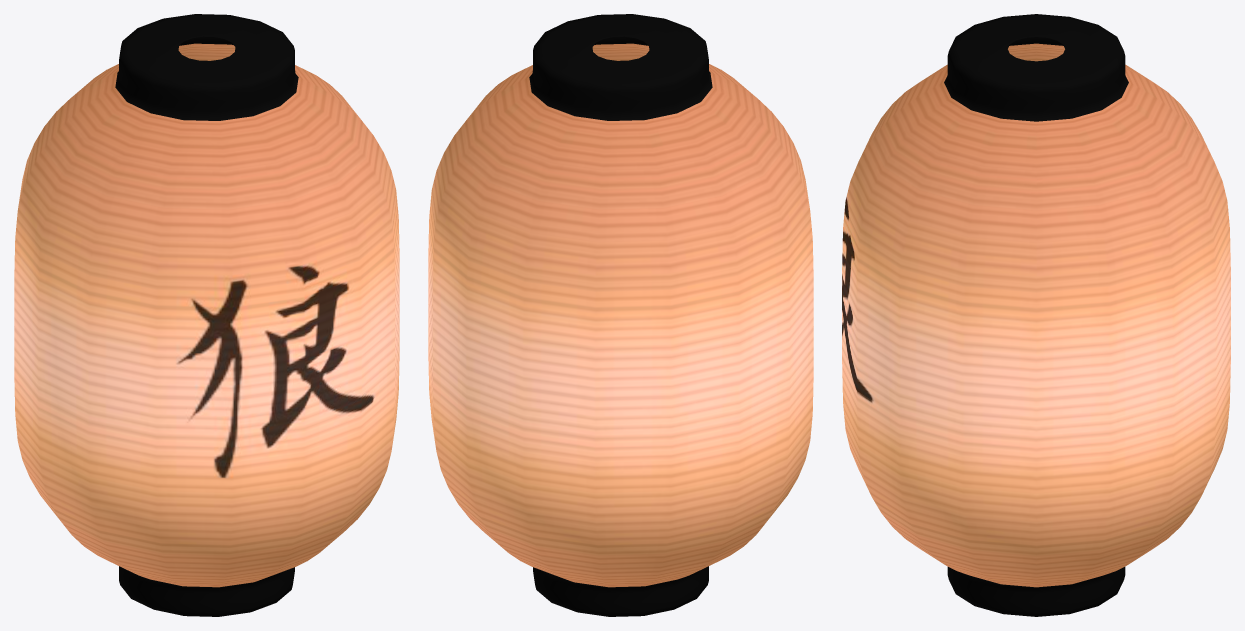
Rendered from paper_lantern.glb.
3 views of the same model, side by side, from view 1: azimuth 30°, elevation 25°; view 2: azimuth 150°, elevation 25°; view 3: azimuth 270°, elevation 25° (orthographic).
Parts seen in each view (by area): view 1: Object_2; view 2: Object_2; view 3: Object_2.
Part boxes in pixels (<box>): Object_2: <box>14,14,399,616</box>; Object_2: <box>428,14,813,616</box>; Object_2: <box>842,14,1230,616</box>.
Size of the model in its own units: 1.23 by 1.85 by 1.23.
1 material, 1 textured.
